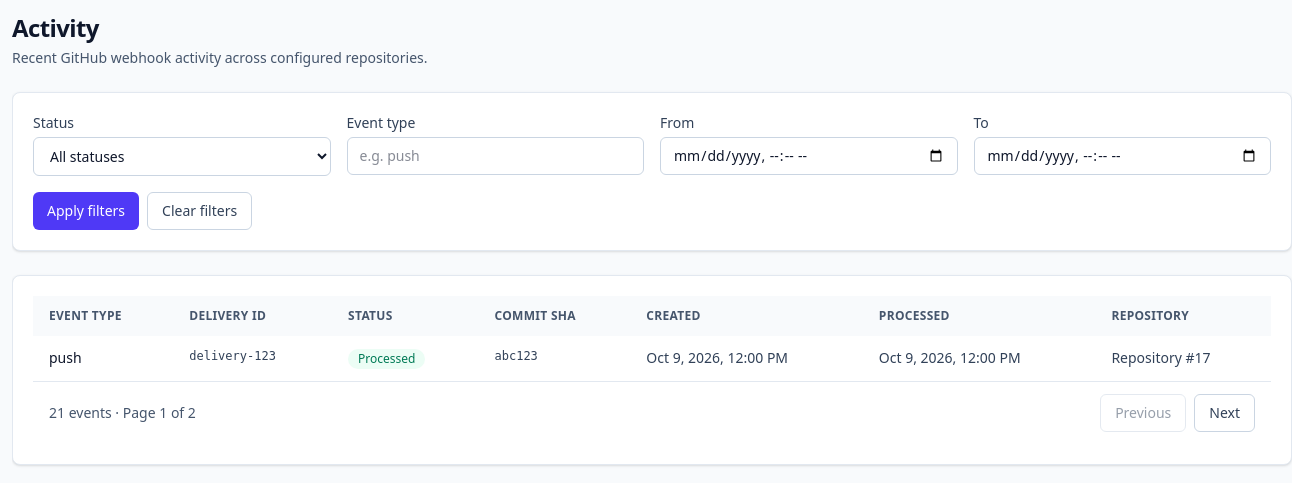
Scenario: ActivityPage › moves between pages and disables controls at page boundaries
Expected: the table named "GitHub webhook activity" is shown, top-left (33, 296), bottom-right (1271, 381)
Expected: the button with aria-label "Previous page" is disabled, top-left (1100, 394), bottom-right (1186, 432)
Click the button with aria-label "Next page": (1225, 413) top-left (1194, 394), bottom-right (1255, 432)
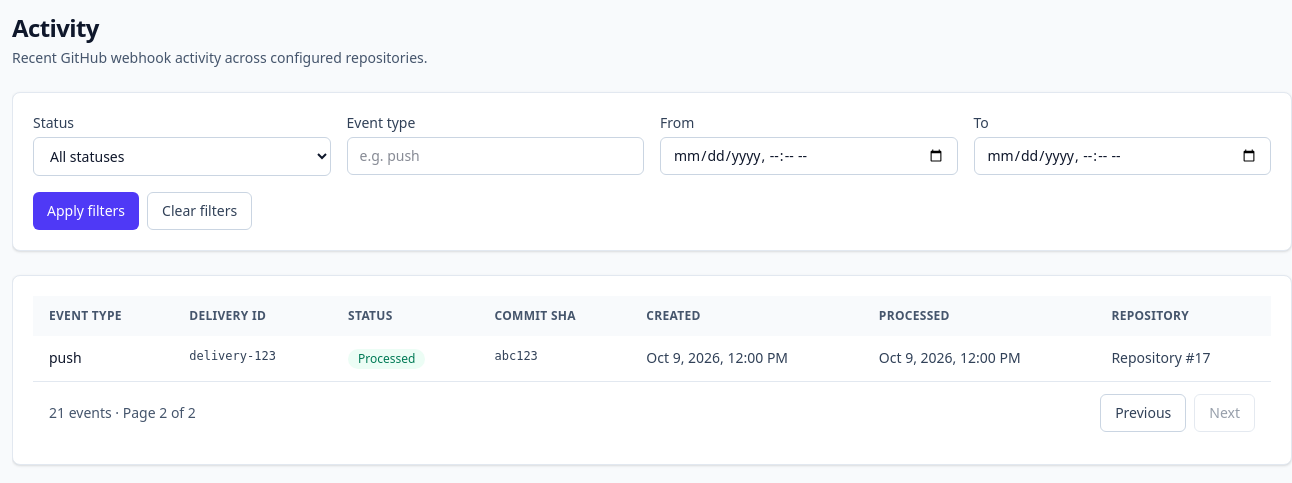
Now the button with aria-label "Next page" is disabled, box top-left (1194, 394), bottom-right (1255, 432)
Now the button with aria-label "Previous page" is enabled, box top-left (1100, 394), bottom-right (1186, 432)
